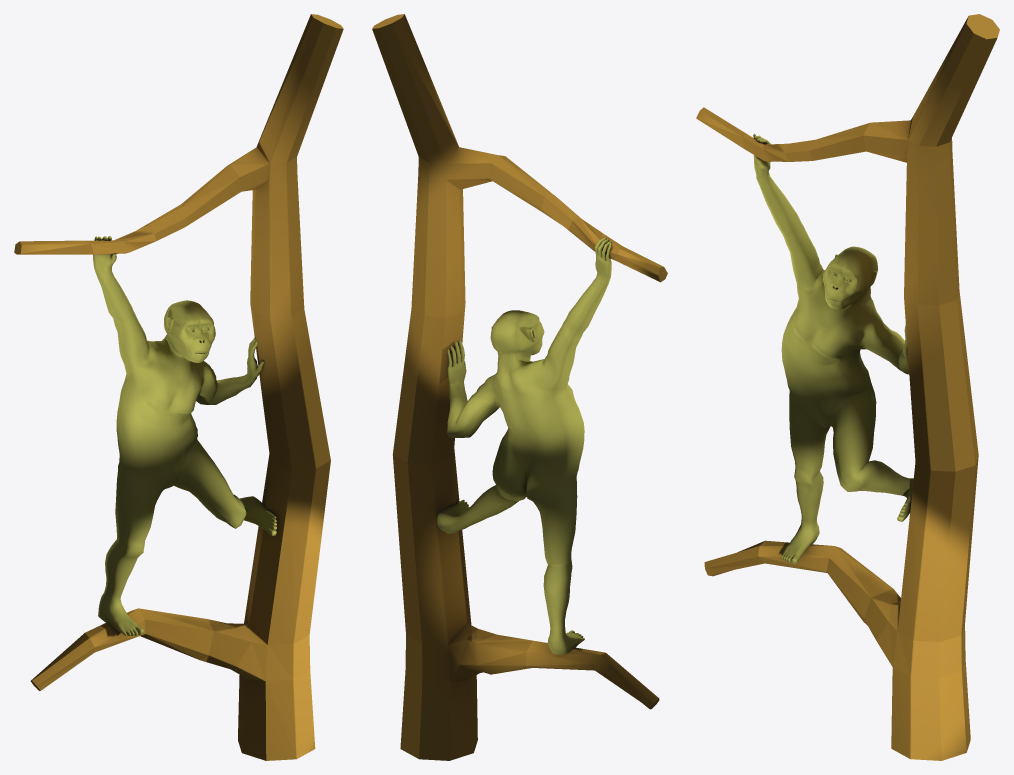
The model's file is h-lucy.glb.
3 views of the same model, side by side, from view 1: azimuth 30°, elevation 25°; view 2: azimuth 150°, elevation 25°; view 3: azimuth 330°, elevation 25° (orthographic). The views are drawn at different scales.
Bounding box in the file's own units: 1.12 × 2.5 × 0.3287.
1 material, 1 textured.
